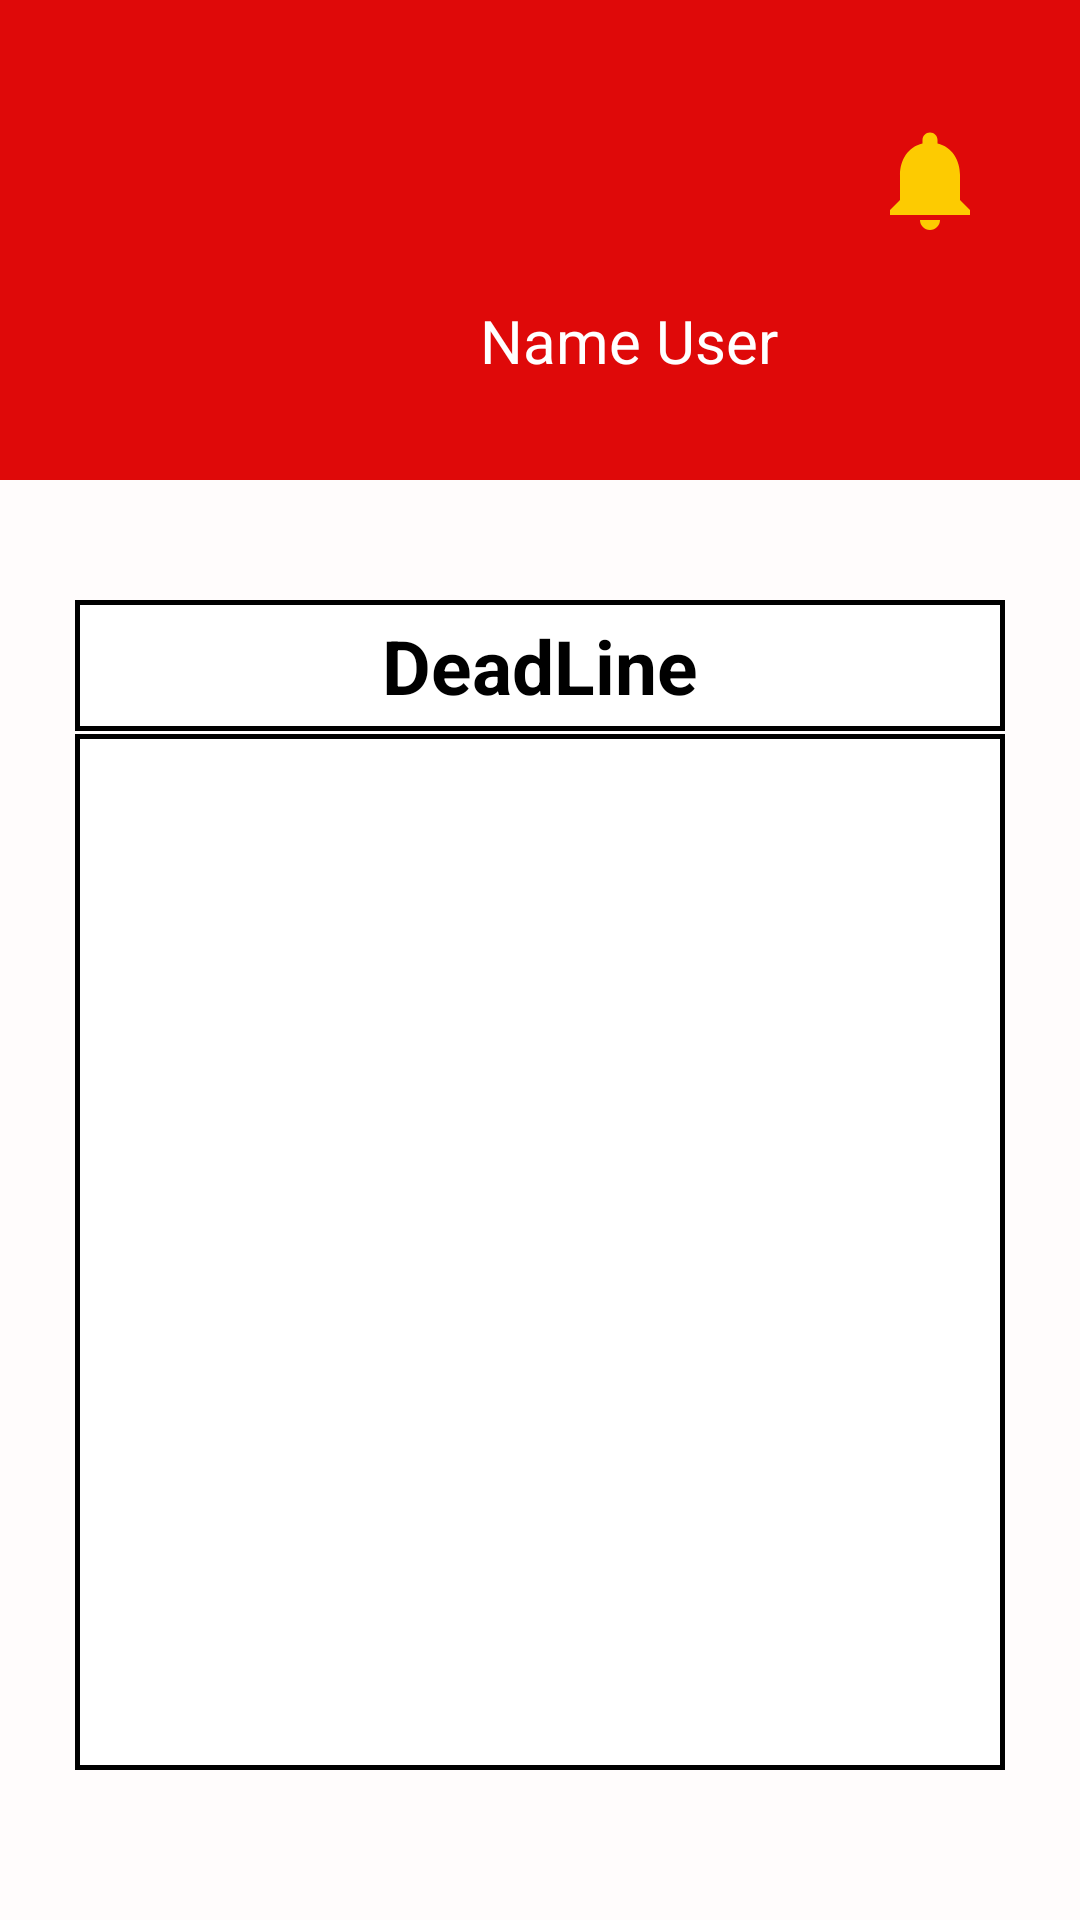

Where to tap for icons on this 1080 x 1920 app screen, as (x,y):
bell: (930,181)
